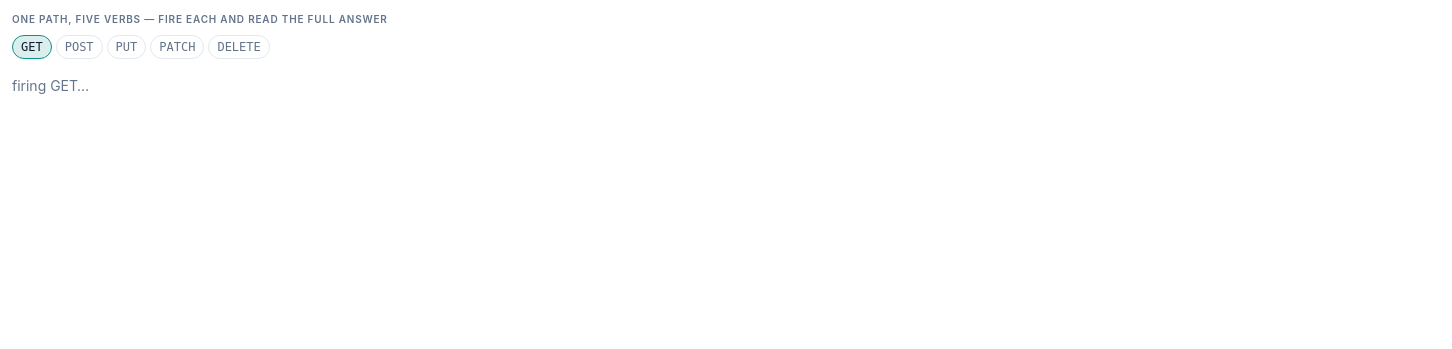
MethodsDemo › PUT renders 200 with the ETag header
Click the button with test id "reqres-verb-put" at (126, 47), box [107,35,146,59]
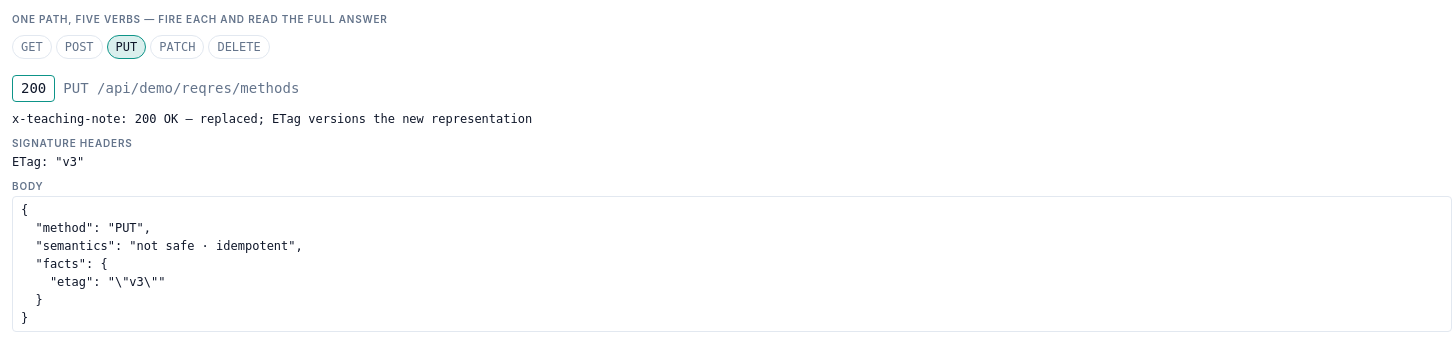
Check: the text with test id "reqres-status" reads "200", box [21,80,46,96]
Check: the text with test id "reqres-etag" shows "\"v3\"", box [55,155,84,169]
